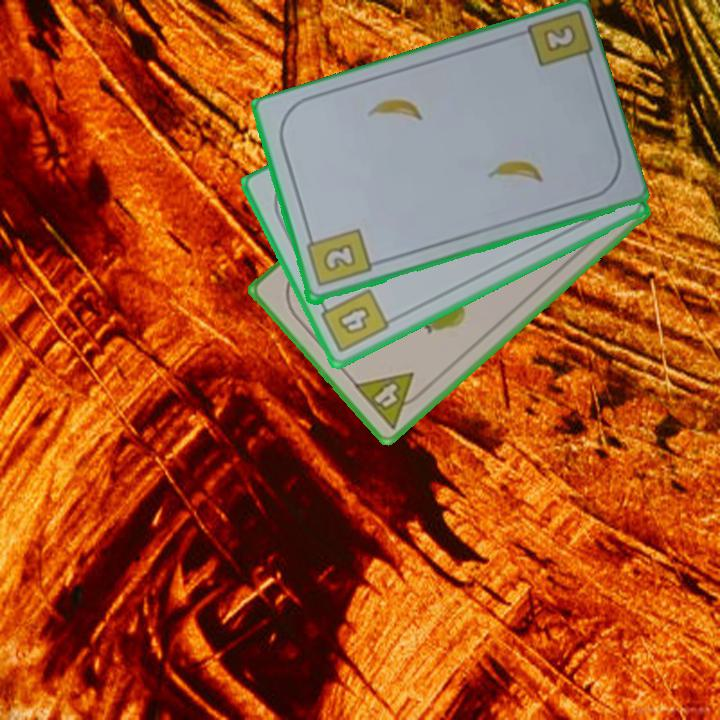2b: (302, 225, 374, 290), (539, 24, 576, 56)
4b: (315, 285, 392, 356)
4p: (350, 368, 430, 433)
